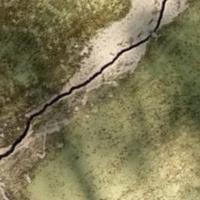crack: (2, 0, 182, 163)
